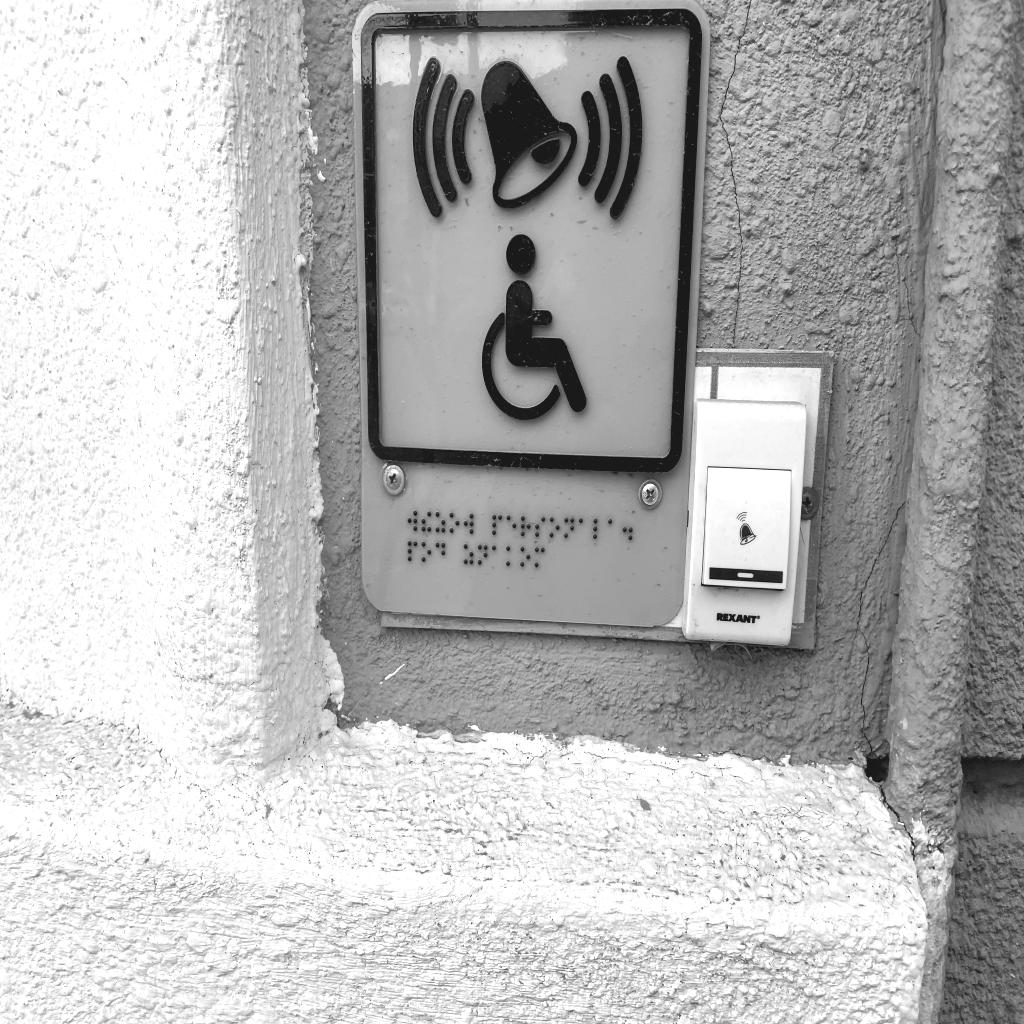_n: (564, 516, 575, 539), (478, 544, 489, 566)
a: (578, 517, 589, 539), (608, 518, 619, 540), (492, 545, 503, 567)
d: (436, 541, 446, 564)
e: (506, 514, 517, 537)
ii: (421, 511, 432, 533)
k: (506, 545, 516, 567)
l: (592, 518, 604, 541)
m: (534, 546, 545, 568)
o: (549, 517, 560, 539), (421, 541, 432, 563), (520, 546, 531, 568), (449, 512, 460, 533)
p: (492, 514, 503, 536), (407, 540, 417, 562)
r: (520, 515, 531, 537)
s: (535, 516, 546, 538)
tochka: (622, 518, 633, 541)
v: (463, 513, 474, 535), (408, 510, 418, 532)
z: (435, 511, 446, 533), (464, 543, 474, 565)
